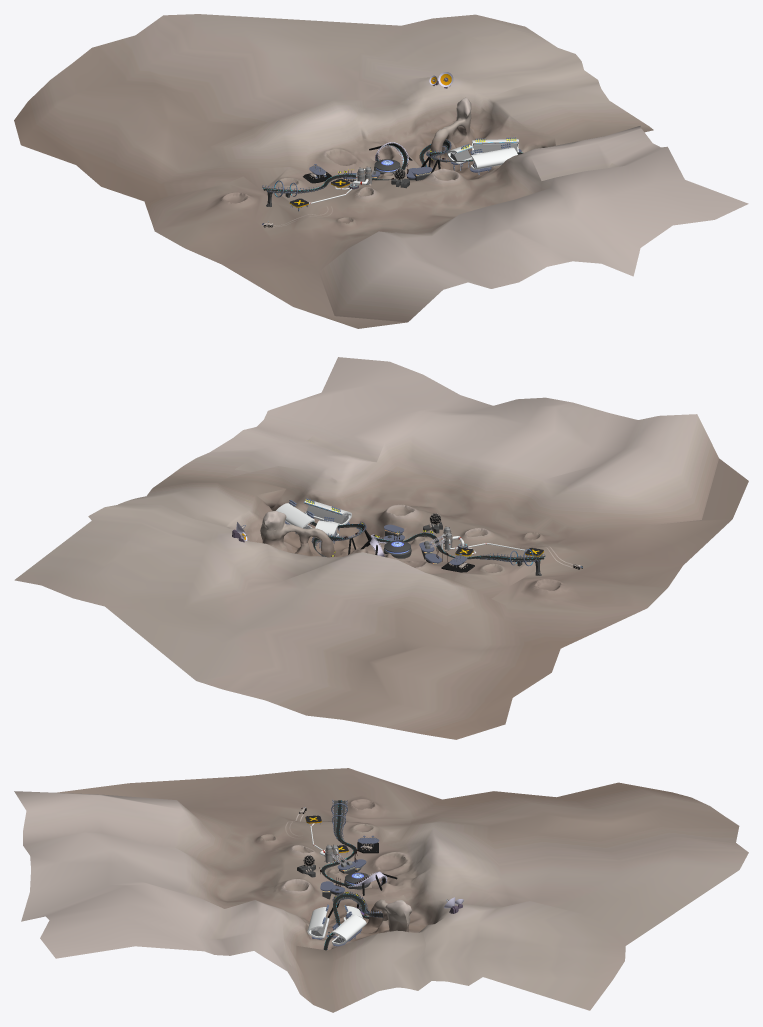
Rendered from racing_game_track_69_moon.glb.
The picture shows the model from 3 angles, top to bottom: view 1: azimuth 30°, elevation 25°; view 2: azimuth 150°, elevation 25°; view 3: azimuth 270°, elevation 25°; orthographic projection. The views are drawn at different scales.
Parts seen in each view (by area): view 1: moon surface; view 2: moon surface; view 3: moon surface, road mesh moon.
Boxes of the visible parts, x1=… form: moon surface: x1=14, y1=14, x2=748, y2=328; moon surface: x1=14, y1=357, x2=748, y2=739; moon surface: x1=14, y1=768, x2=748, y2=1012; road mesh moon: x1=321, y1=800, x2=385, y2=950.
Bounding box in the file's own units: 2717 × 358 × 3536.
9 materials, 4 textured.
